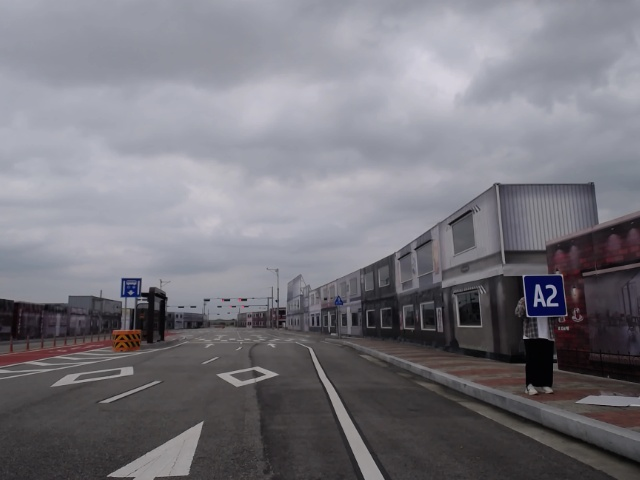delivery_a2: (523, 274, 567, 317)
